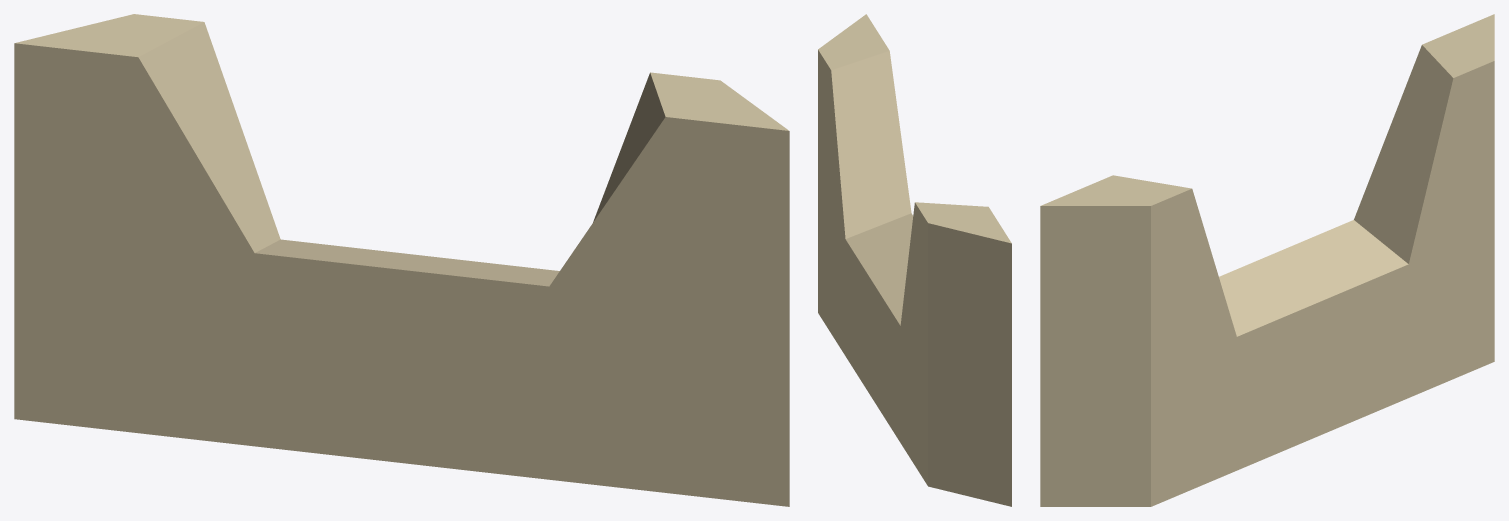
File: chamfer_battlement.glb
3 views of the same model, side by side, from view 1: azimuth 30°, elevation 25°; view 2: azimuth 150°, elevation 25°; view 3: azimuth 270°, elevation 25° (orthographic). The views are drawn at different scales.
Parts seen in each view (by area): view 1: Chamfer battlement; view 2: Chamfer battlement; view 3: Chamfer battlement.
Part boxes in pixels (x1,y1,x2,y2): Chamfer battlement: (14, 14, 789, 506); Chamfer battlement: (818, 14, 1011, 506); Chamfer battlement: (1040, 14, 1494, 506).
Size of the model in its own units: 0.985 by 0.72 by 0.985.
